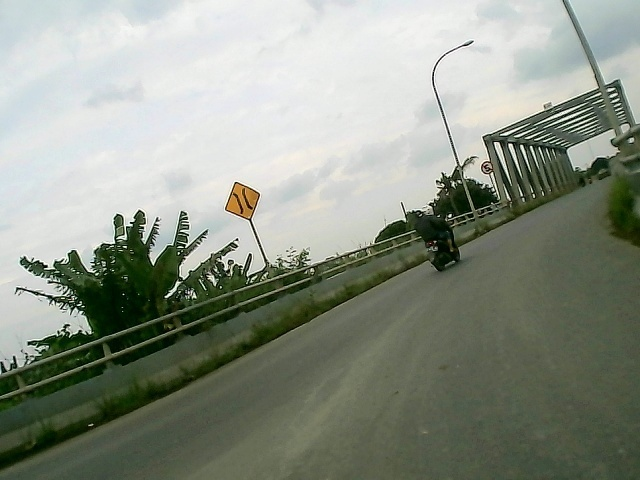Jembatan: (219, 179, 264, 221)
